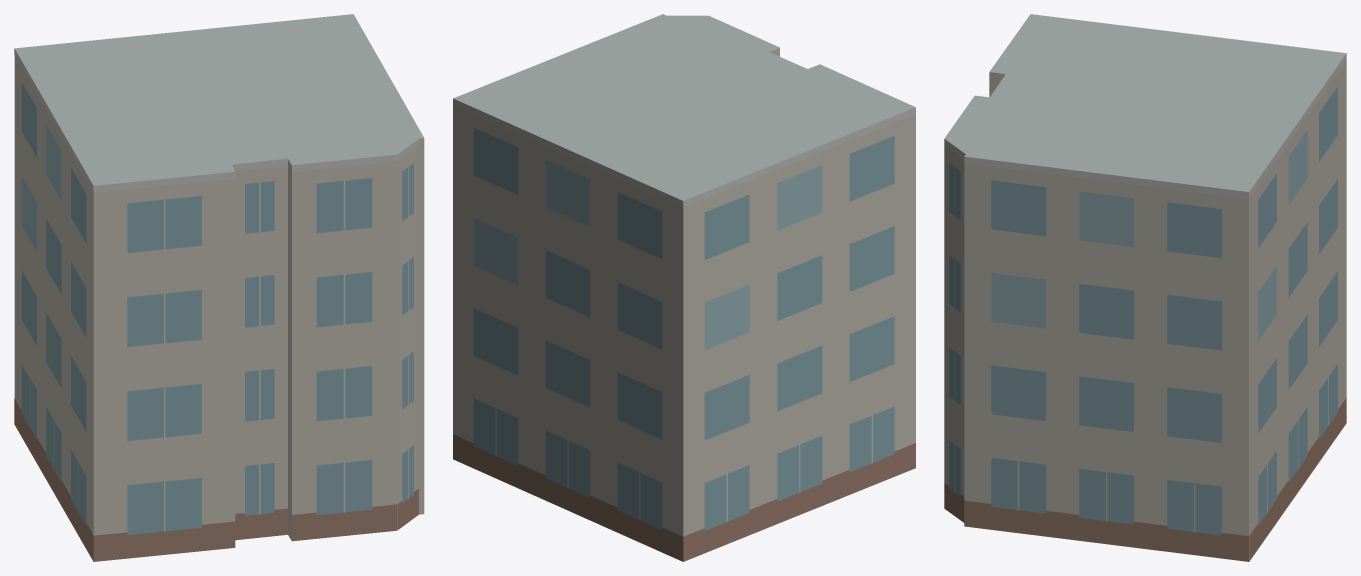
The model's file is survey-upis-33041421.glb.
3 views of the same model, side by side, from view 1: azimuth 30°, elevation 25°; view 2: azimuth 150°, elevation 25°; view 3: azimuth 270°, elevation 25° (orthographic). The views are drawn at different scales.
Visible parts, largest first — view 1: survey-upis-33041421.tmp; view 2: survey-upis-33041421.tmp; view 3: survey-upis-33041421.tmp.
Boxes of the visible parts, x1,y1,x2,y2 form: survey-upis-33041421.tmp: (14, 14, 424, 561); survey-upis-33041421.tmp: (453, 14, 915, 561); survey-upis-33041421.tmp: (944, 14, 1346, 561).
Bounding box in the file's own units: 13.85 × 13.4 × 13.22.
